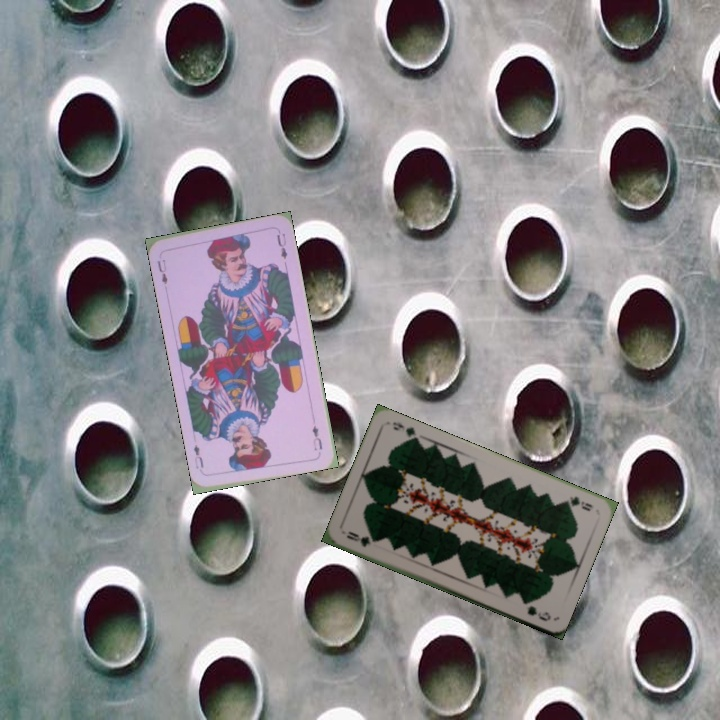EU: (153, 255, 170, 287), (308, 421, 325, 453)
G9: (343, 527, 379, 550), (558, 492, 595, 514)
